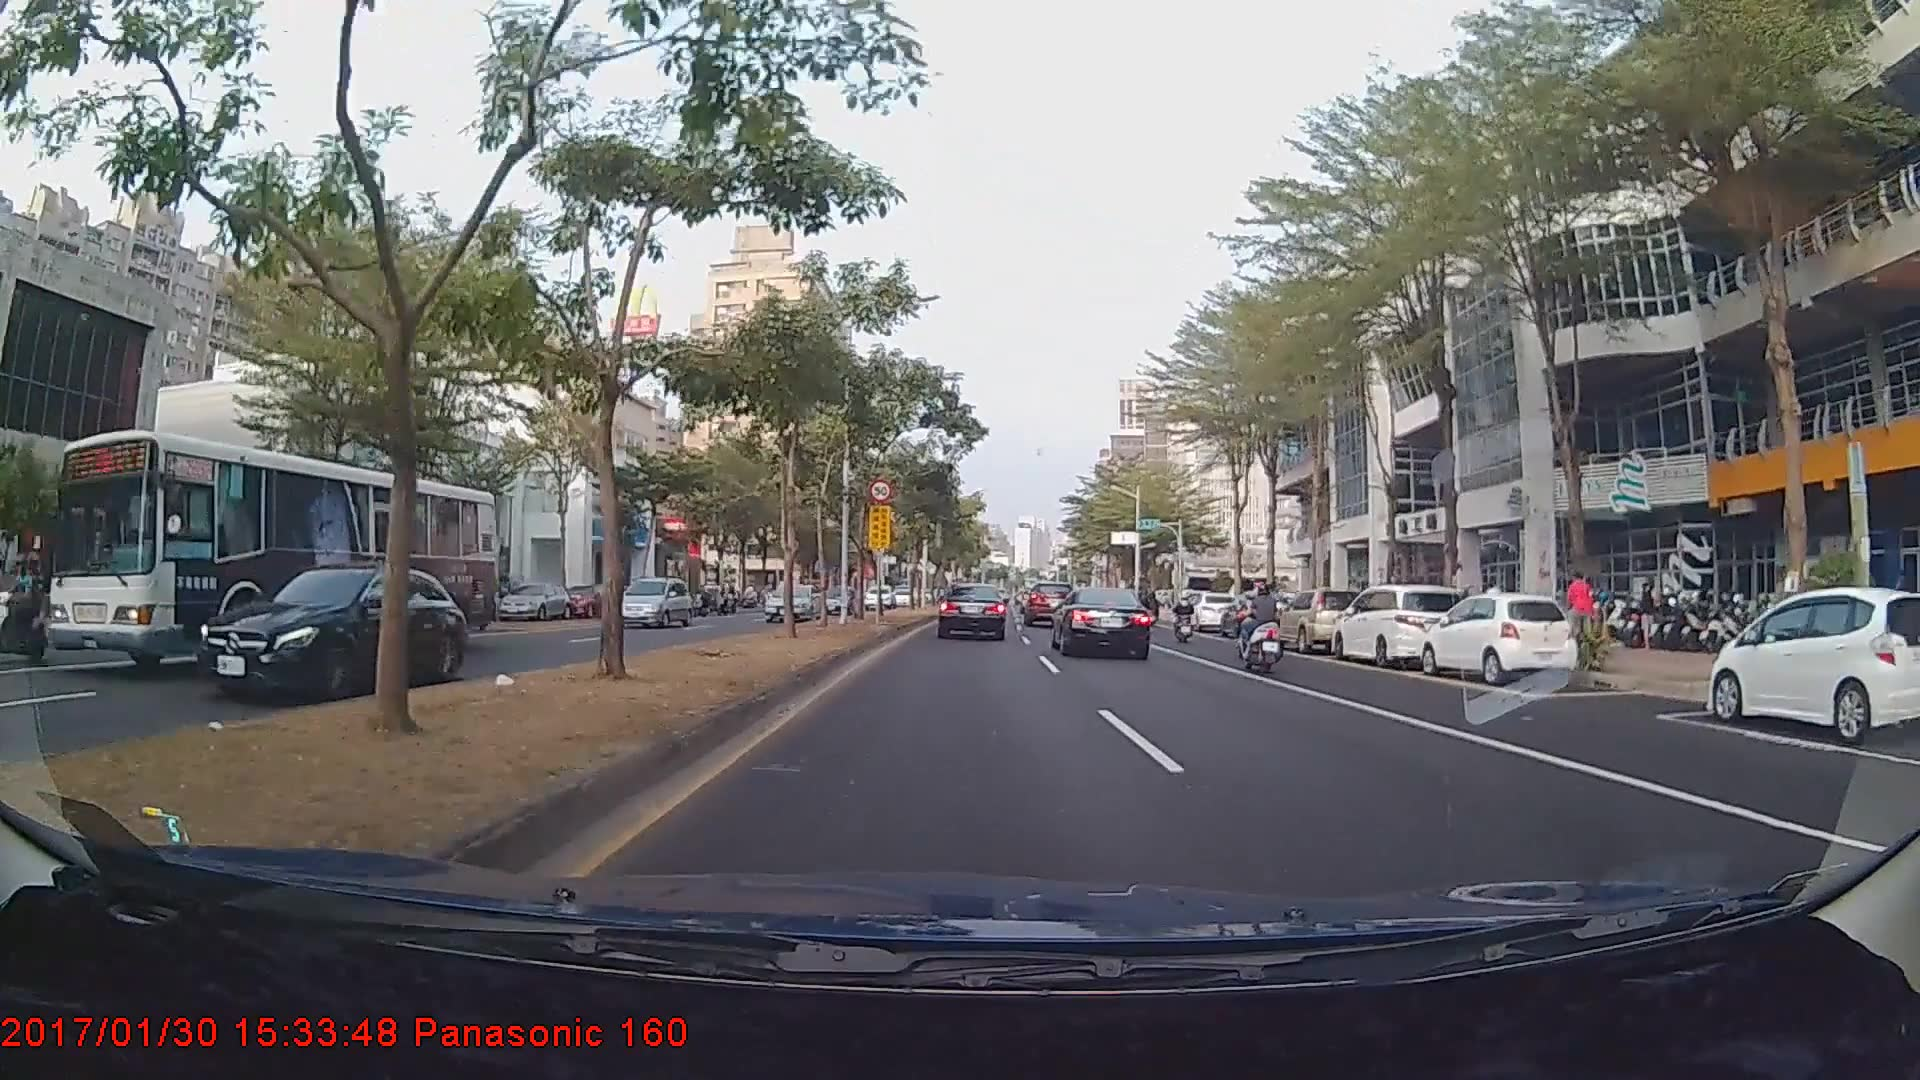rider: (1231, 582, 1298, 674), (1554, 566, 1607, 661), (1168, 588, 1199, 644)
vehicle: (46, 426, 497, 675), (195, 562, 471, 701), (1709, 583, 1920, 743), (1421, 592, 1569, 683), (1335, 582, 1466, 671), (1050, 585, 1153, 660), (1271, 587, 1369, 655), (611, 574, 690, 626), (937, 581, 1007, 640), (1184, 591, 1239, 632), (1023, 583, 1072, 628), (764, 582, 820, 619)
